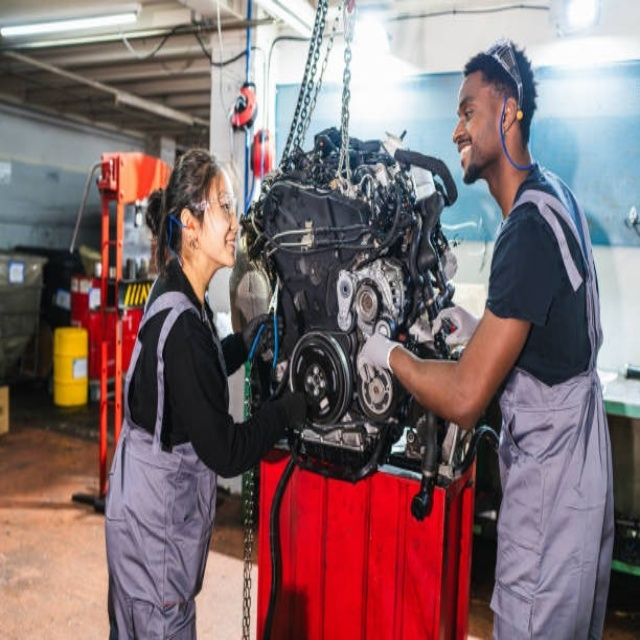Gafas: (185, 195, 242, 221)
Guantes: (353, 328, 403, 384), (431, 296, 474, 351), (243, 311, 287, 361)
Sin_gafas: (457, 86, 494, 124)
Sin_mascara: (454, 136, 481, 180), (212, 231, 237, 264)
